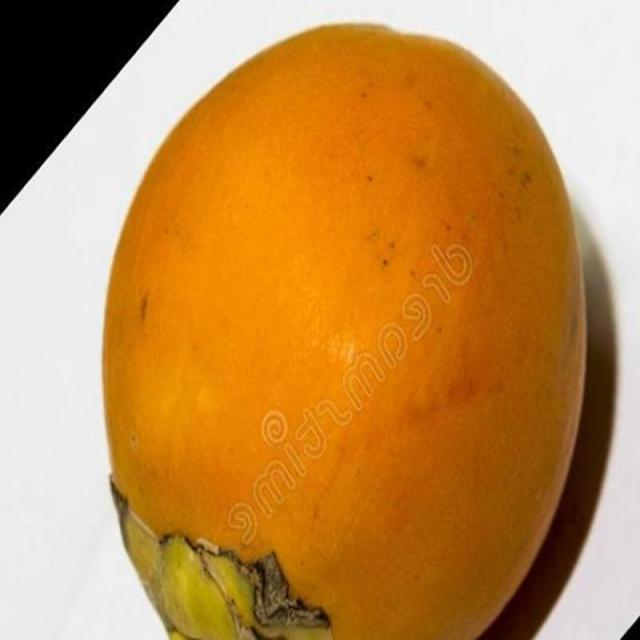good: (98, 23, 588, 639)
